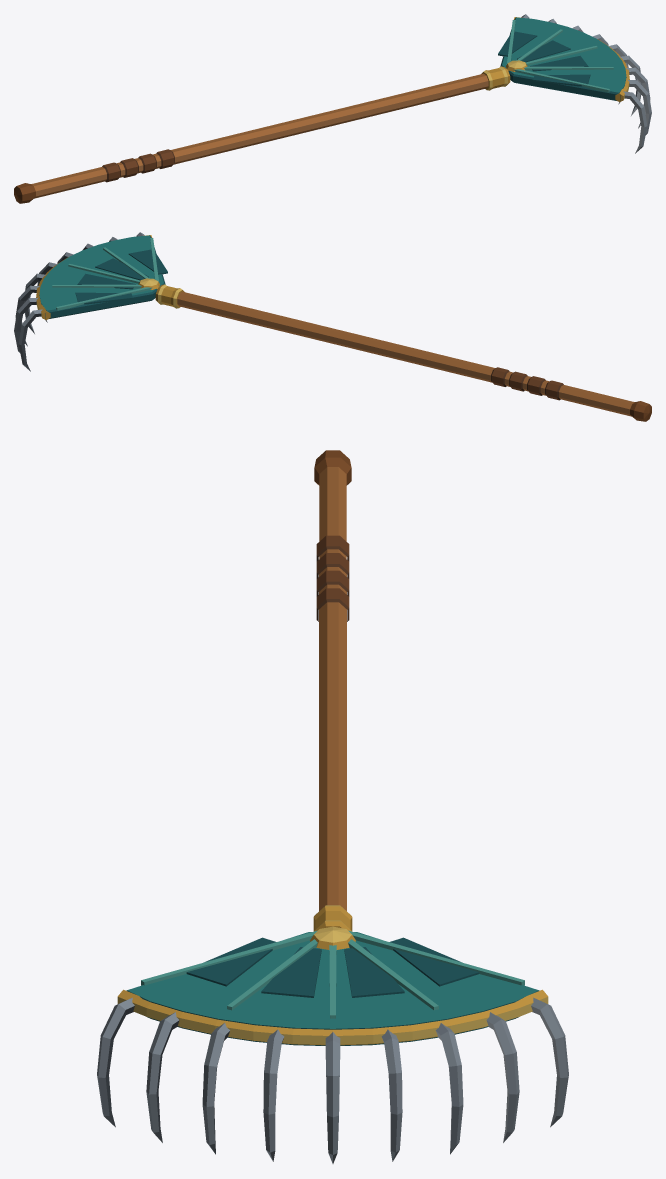
File: rake.glb
The picture shows the model from 3 angles, top to bottom: view 1: azimuth 30°, elevation 25°; view 2: azimuth 150°, elevation 25°; view 3: azimuth 270°, elevation 25°; orthographic projection. The views are drawn at different scales.
Visible parts, largest first — view 1: rake; view 2: rake; view 3: rake.
Part boxes in pixels (x1,y1,x2,y2): rake: [14, 14, 651, 203]; rake: [14, 232, 651, 421]; rake: [97, 450, 568, 1163].
Size of the model in its own units: 1.77 by 0.1865 by 0.5893.
